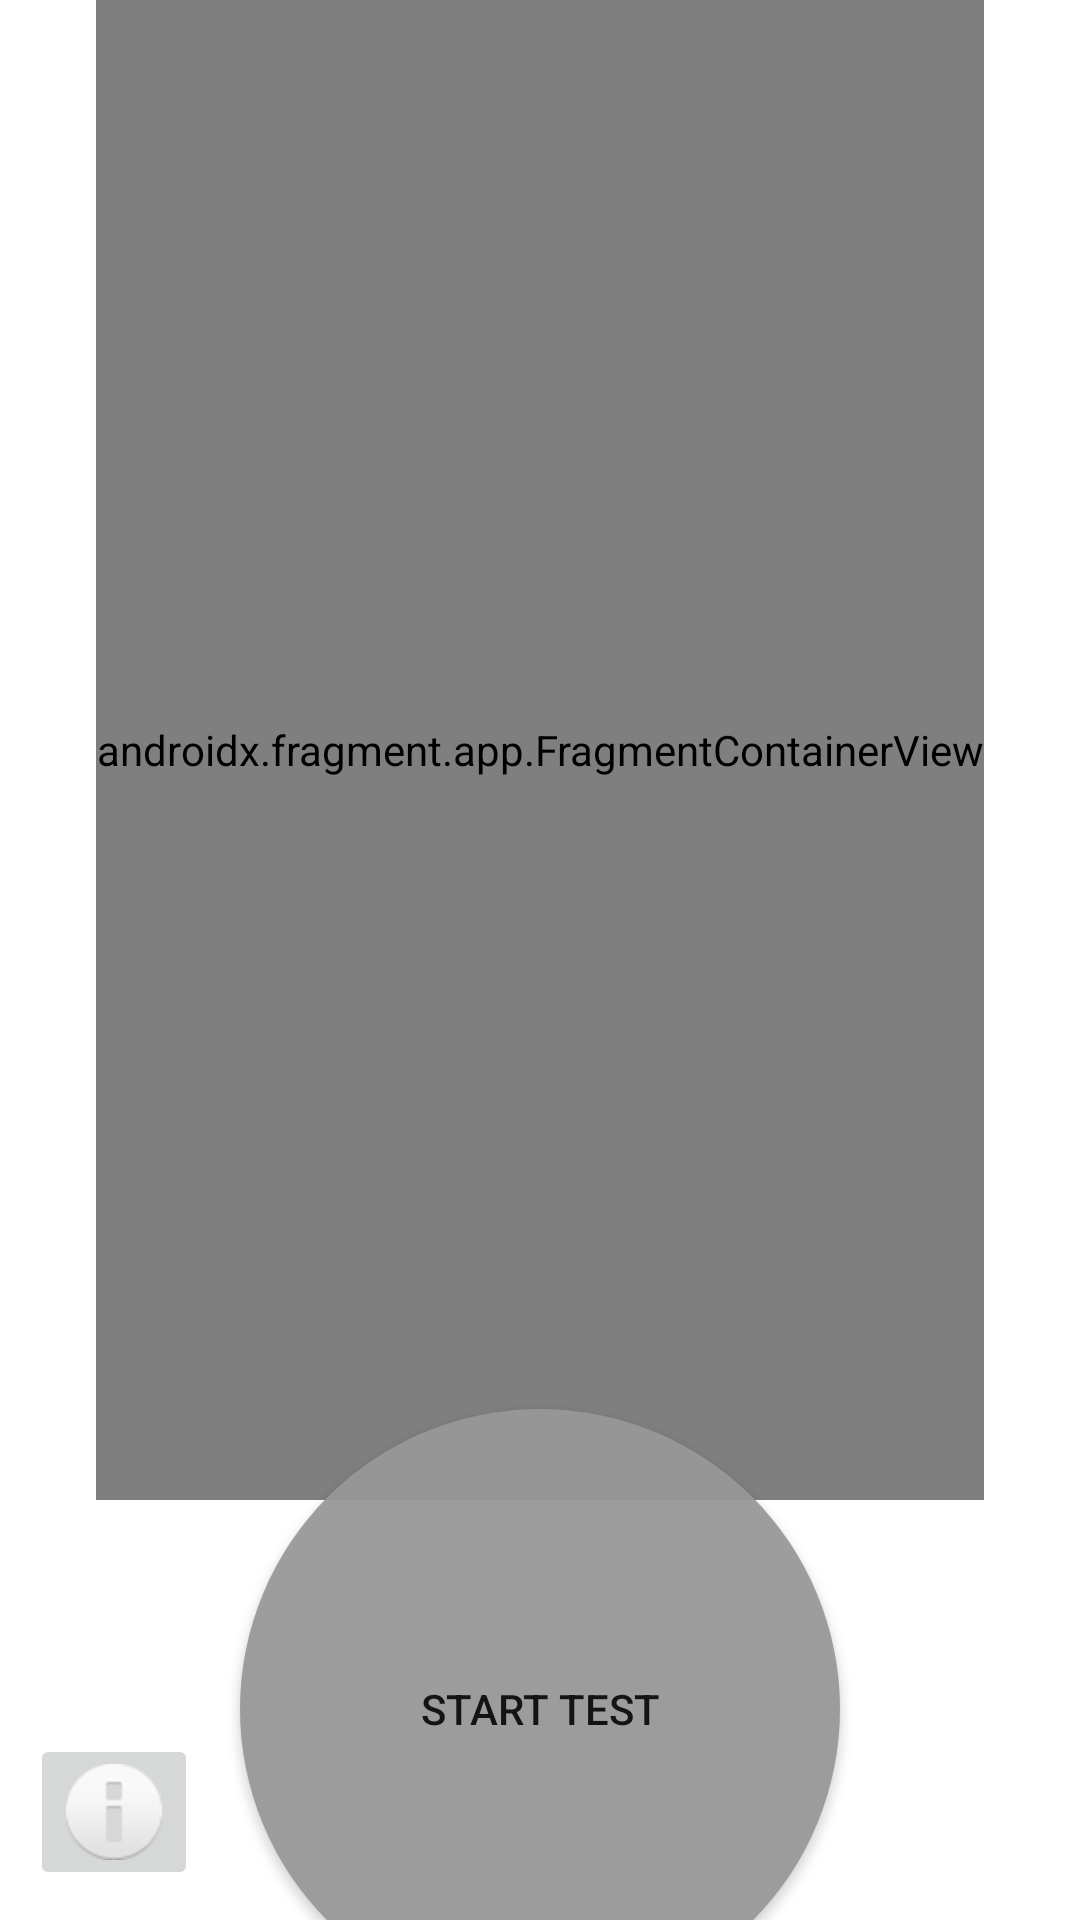

Icon click points for this 1080*1920 phone screenshot, format (x=x, y=y):
info: (x=114, y=1812)
